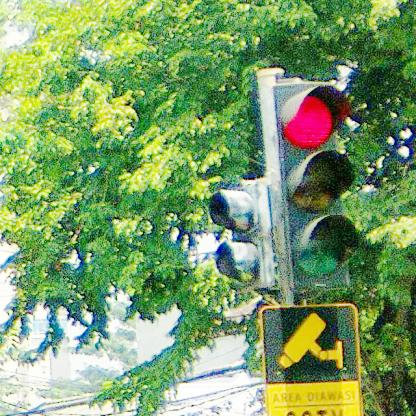Traffic Light -Red-: (272, 83, 356, 291)
